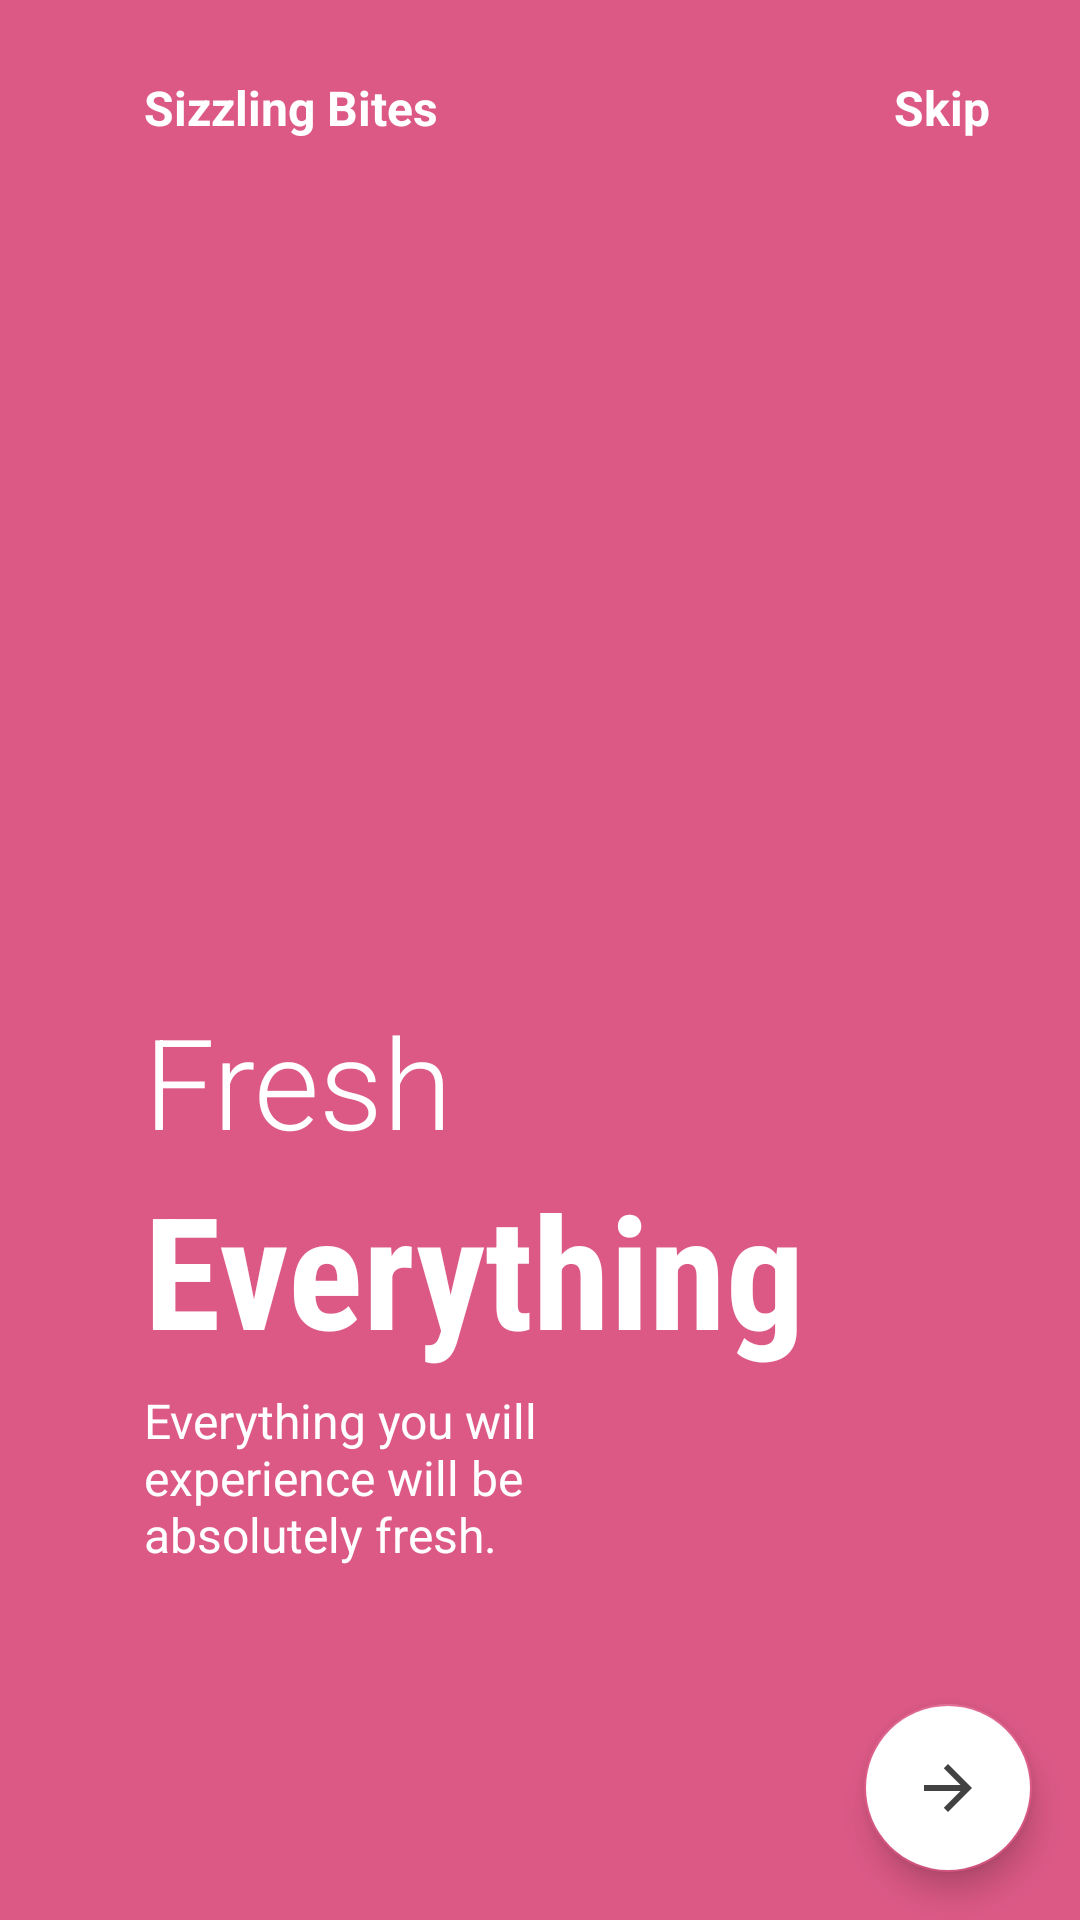

Icons on this 1080 × 1920 Android screen, each with the point to tap as (x,y):
next: (948,1787)
